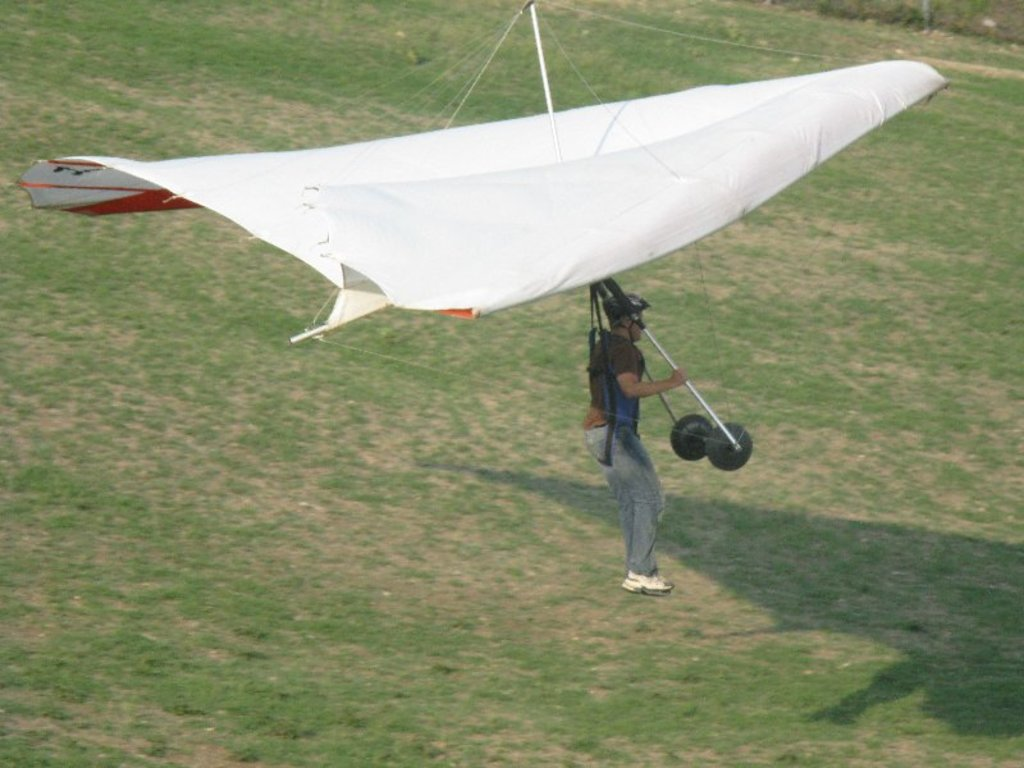Person: (582, 292, 688, 596)
